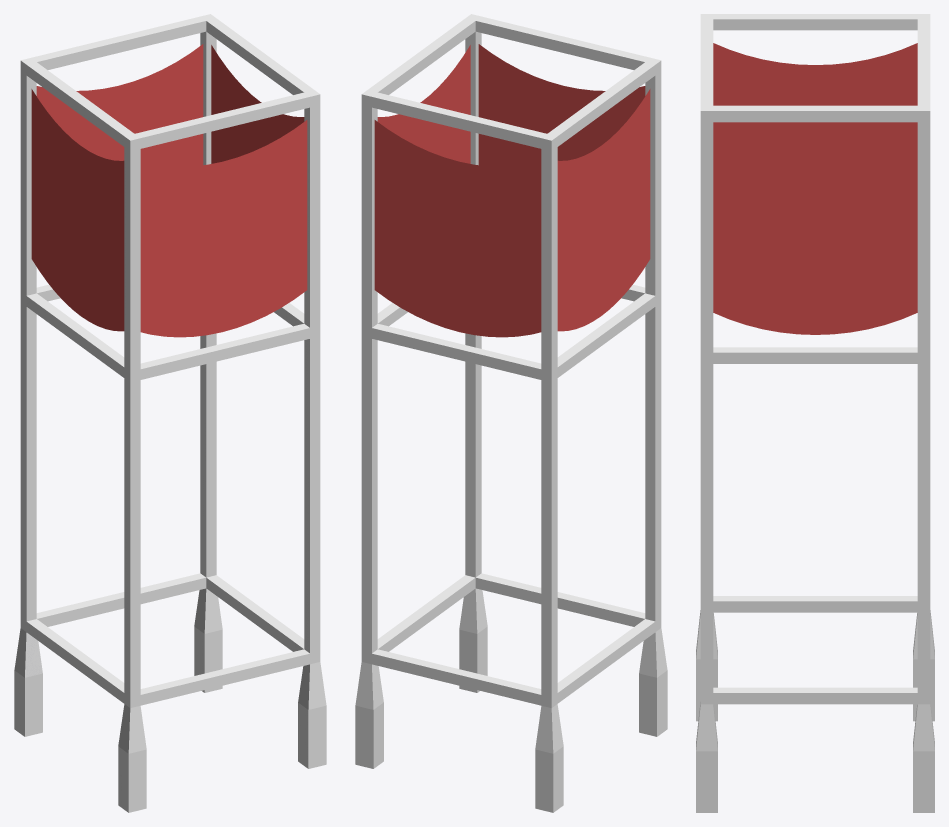
The model's file is bannerTowerRed.obj.
3 renders of one model, left to right at view 1: azimuth 30°, elevation 25°; view 2: azimuth 150°, elevation 25°; view 3: azimuth 270°, elevation 25°, orthographic. The views are drawn at different scales.
Visible parts, largest first — view 1: bannerTowerRed; view 2: bannerTowerRed; view 3: bannerTowerRed.
Boxes of the visible parts, x1,y1,x2,y2 form: bannerTowerRed: (14, 14, 326, 812); bannerTowerRed: (355, 14, 667, 812); bannerTowerRed: (696, 14, 934, 812).
Size of the model in its own units: 0.3852 by 1.25 by 0.3852.
